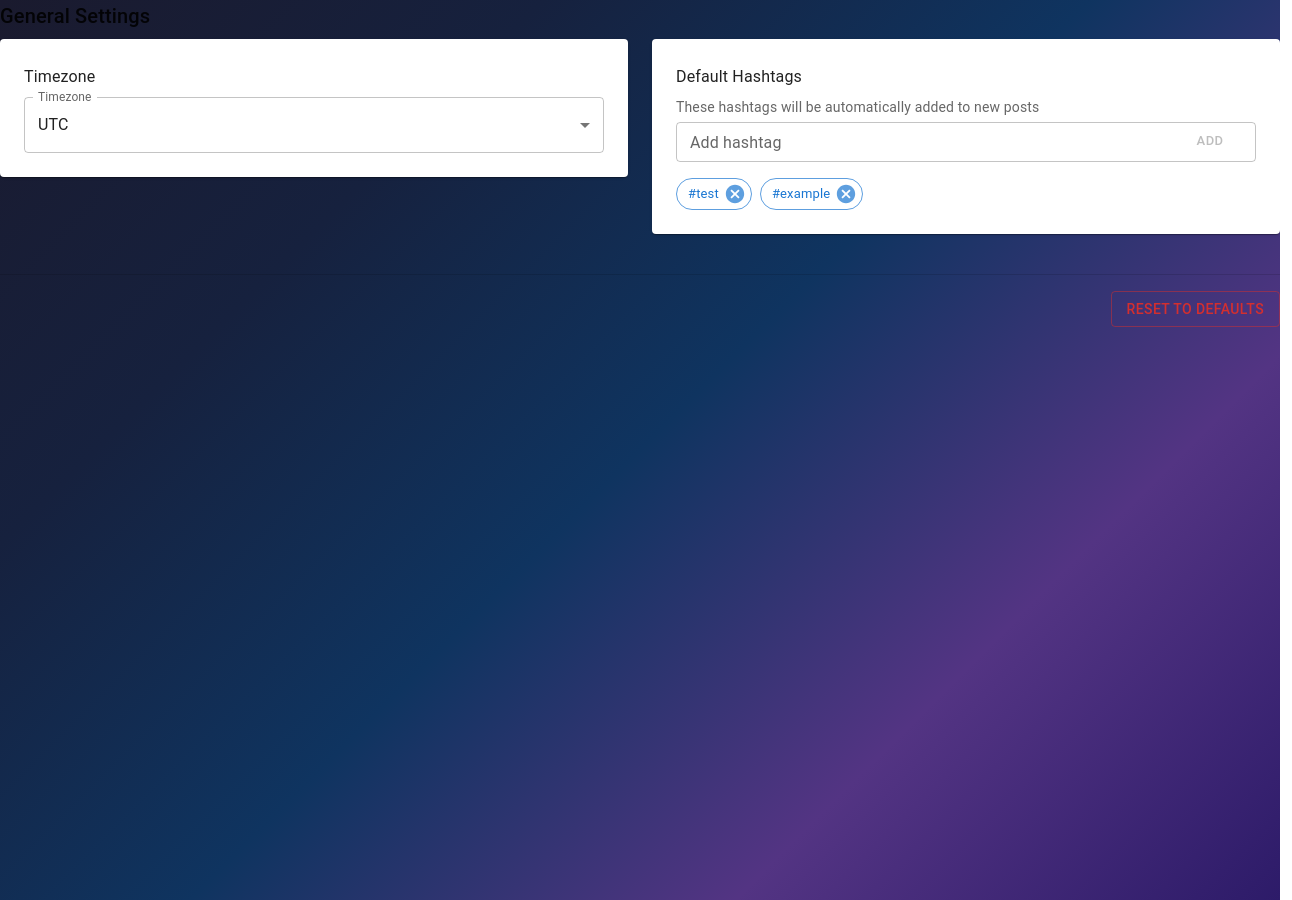
Scenario: GeneralSettings › should disable add button when input is empty
Expected: the button "Add" is disabled, [1178,126,1242,157]
Type "test" into the field with placeholder "Enter hashtag without #" at (927, 142), box [676,122,1178,162]
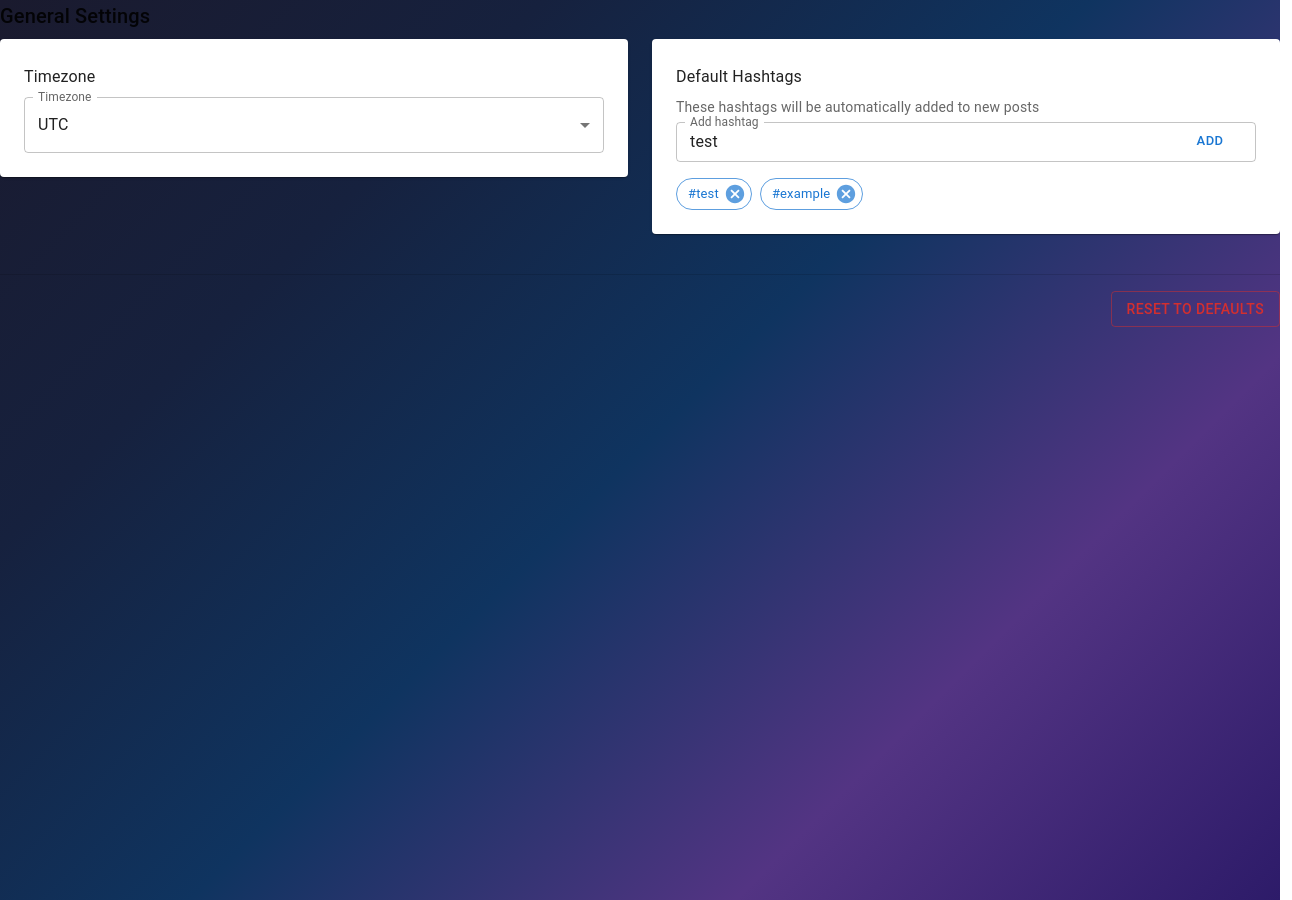
Now the button "Add" is enabled, box [1178,126,1242,157]
